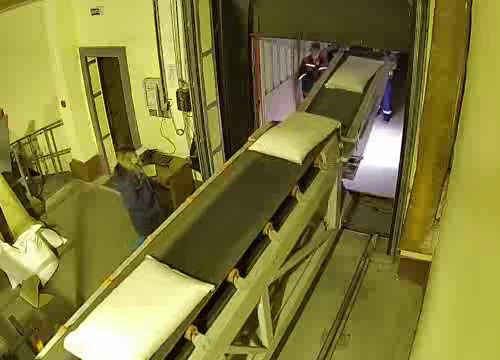bag: (63, 251, 216, 360), (247, 110, 341, 167), (324, 55, 384, 93)
